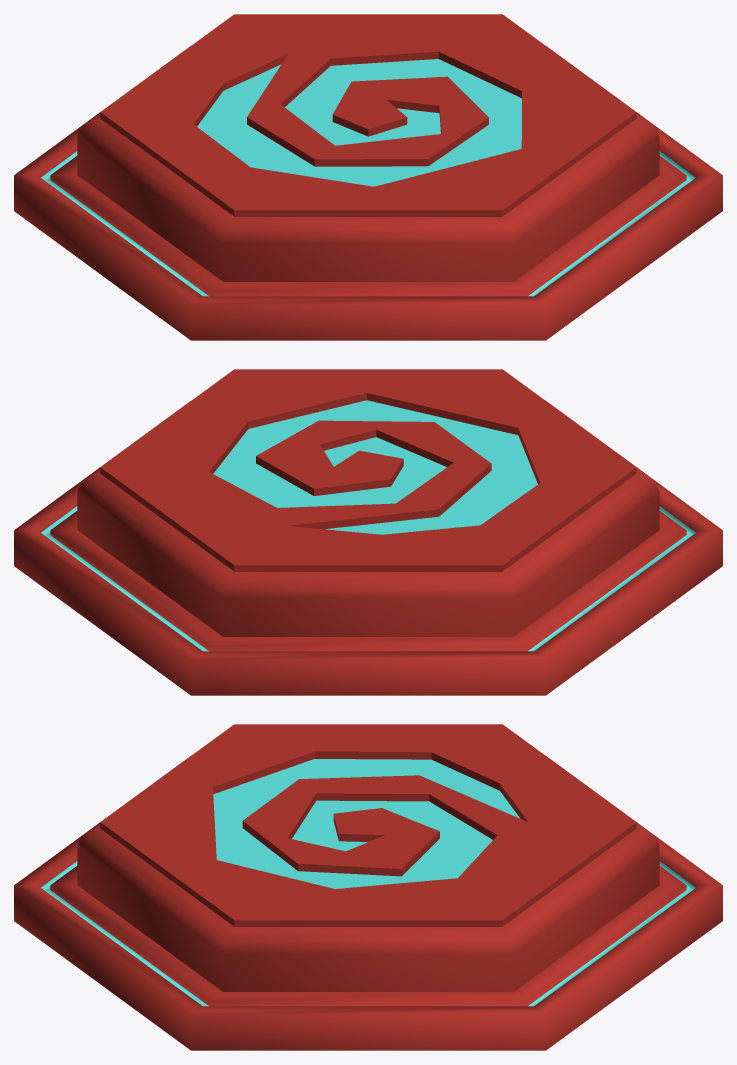
The model's file is button_animated.fbx.
3 views of the same model, one above another, from view 1: azimuth 30°, elevation 25°; view 2: azimuth 150°, elevation 25°; view 3: azimuth 270°, elevation 25° (orthographic).
Parts seen in each view (by area): view 1: Circle.001, Circle; view 2: Circle.001, Circle; view 3: Circle.001, Circle.
Part boxes in pixels (x1=…): Circle.001: x1=77, y1=14, x2=659, y2=281; Circle: x1=14, y1=46, x2=722, y2=340; Circle.001: x1=77, y1=369, x2=659, y2=636; Circle: x1=14, y1=401, x2=722, y2=695; Circle.001: x1=77, y1=724, x2=659, y2=991; Circle: x1=14, y1=756, x2=722, y2=1050.
Size of the model in its own units: 633 by 112 by 731.
